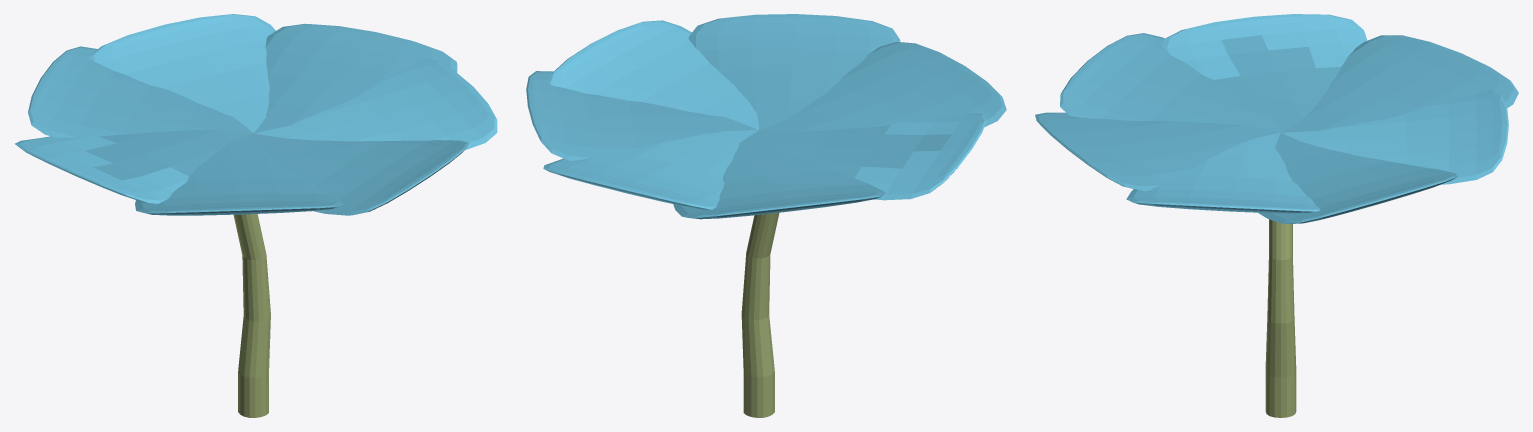
The model's file is Blue Flower 1.fbx.
The picture shows the model from 3 angles, left to right: view 1: azimuth 30°, elevation 25°; view 2: azimuth 150°, elevation 25°; view 3: azimuth 270°, elevation 25°; orthographic projection.
Parts seen in each view (by area): view 1: Cube; view 2: Cube; view 3: Cube.
Boxes of the visible parts, x1=… form: Cube: x1=15, y1=14, x2=497, y2=417; Cube: x1=526, y1=14, x2=1006, y2=417; Cube: x1=1035, y1=14, x2=1518, y2=417.
Bounding box in the file's own units: 2.5 × 2.49 × 1.7.
